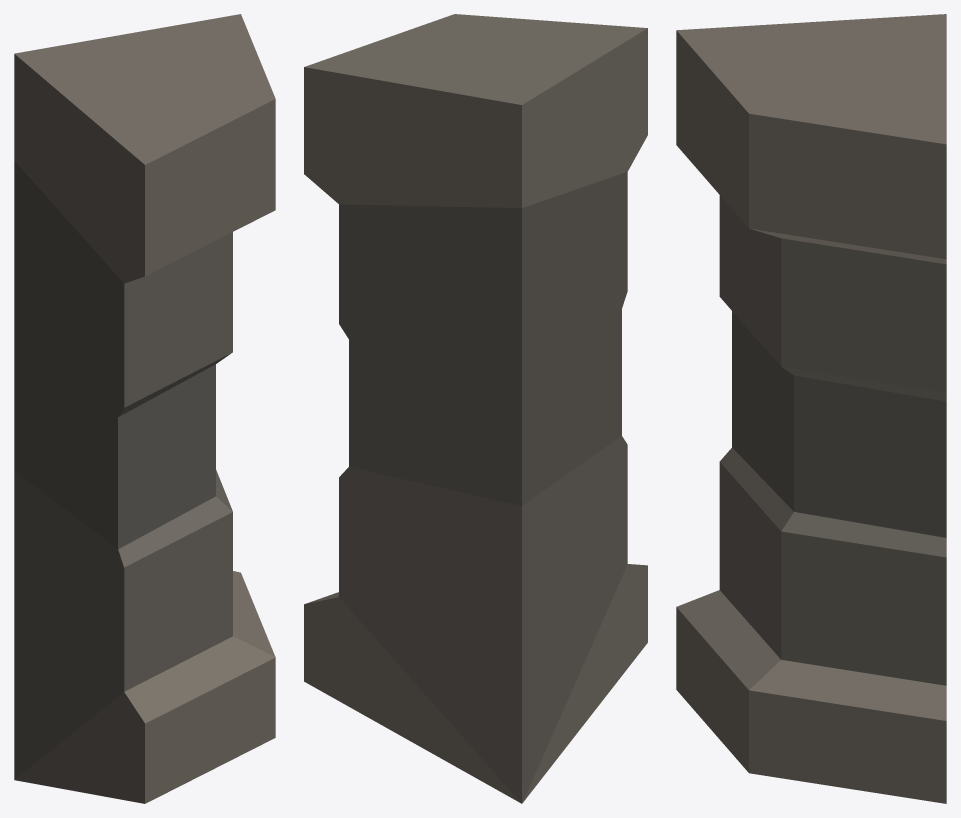
Rendered from SM_Bld_Trim_Corner_02.fbx.
The picture shows the model from 3 angles, left to right: view 1: azimuth 30°, elevation 25°; view 2: azimuth 150°, elevation 25°; view 3: azimuth 270°, elevation 25°; orthographic projection. The views are drawn at different scales.
Parts seen in each view (by area): view 1: SM_Bld_Trim_Corner_02; view 2: SM_Bld_Trim_Corner_02; view 3: SM_Bld_Trim_Corner_02.
Part boxes in pixels (x1,y1,x2,y2): SM_Bld_Trim_Corner_02: (14, 14, 275, 803); SM_Bld_Trim_Corner_02: (304, 14, 647, 803); SM_Bld_Trim_Corner_02: (676, 14, 946, 803).
Size of the model in its own units: 45.57 by 140 by 45.57.
